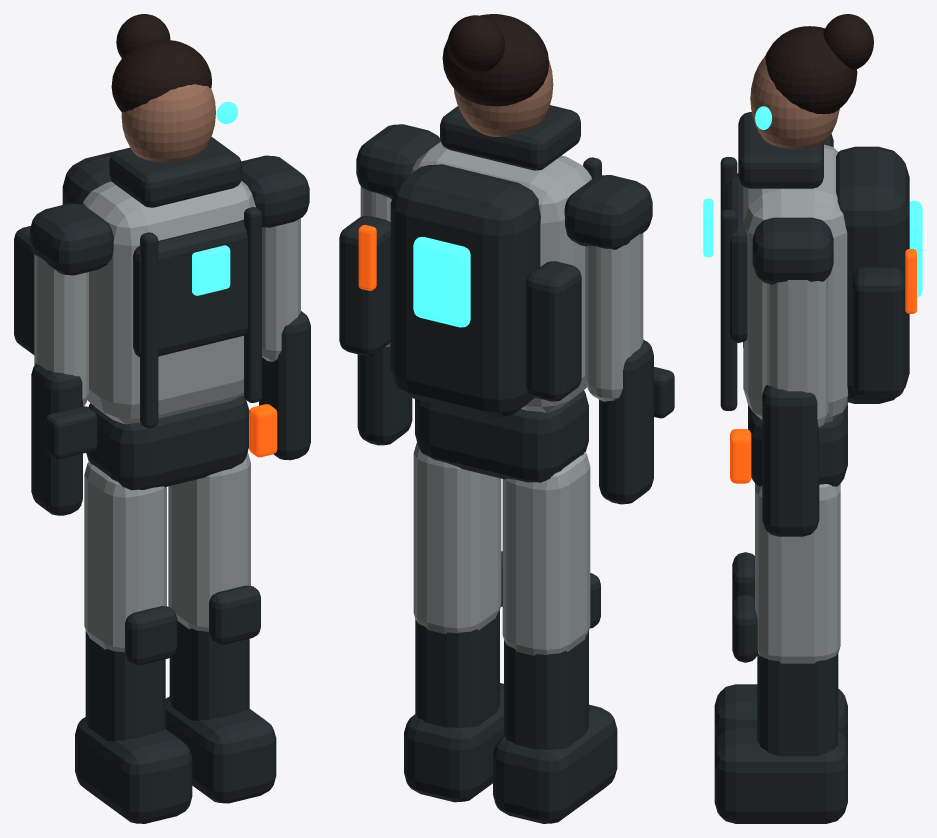
The model's file is Researcher_FormProxy_v0.31.fbx.
The picture shows the model from 3 angles, left to right: view 1: azimuth 30°, elevation 25°; view 2: azimuth 150°, elevation 25°; view 3: azimuth 270°, elevation 25°; orthographic projection. The views are drawn at different scales.
Visible parts, largest first — view 1: P03_Torso, P03_Thigh_-1, P03_Thigh_1, P03_Pelvis, P03_ChestArmor, P03_Boot_-1, P03_Boot_1, P03_Shin_-1, P03_Shin_1, P03_UpperArm_-1, P03_Detail_Collar, P03_Head (+16 smaller); view 2: P03_Backpack, P03_Thigh_-1, P03_Thigh_1, P03_Pelvis, P03_Boot_-1, P03_UpperArm_-1, P03_Shin_1, P03_Shin_-1, P03_Detail_PackSide_L, P03_Torso, P03_Forearm_-1, P03_Boot_1 (+12 smaller); view 3: P03_Thigh_1, P03_Torso, P03_Boot_1, P03_Backpack, P03_Forearm_1, P03_Shin_1, P03_UpperArm_1, P03_Detail_PackSide_R, P03_HairCap, P03_Shoulder_1, P03_Detail_Collar, P03_Head (+12 smaller).
Boxes of the visible parts, bbox=[...] form: P03_Torso: bbox=[82, 181, 255, 424]; P03_Thigh_-1: bbox=[84, 461, 166, 652]; P03_Thigh_1: bbox=[168, 452, 250, 631]; P03_Pelvis: bbox=[86, 395, 249, 490]; P03_ChestArmor: bbox=[133, 219, 247, 357]; P03_Boot_-1: bbox=[75, 717, 192, 823]; P03_Boot_1: bbox=[165, 696, 276, 803]; P03_Shin_-1: bbox=[85, 631, 165, 741]; P03_Shin_1: bbox=[169, 621, 249, 720]; P03_UpperArm_-1: bbox=[34, 254, 88, 406]; P03_Detail_Collar: bbox=[109, 136, 242, 207]; P03_Head: bbox=[121, 84, 215, 162]; P03_Backpack: bbox=[390, 164, 540, 417]; P03_Thigh_-1: bbox=[502, 452, 590, 655]; P03_Thigh_1: bbox=[413, 442, 501, 633]; P03_Pelvis: bbox=[415, 390, 588, 482]; P03_Boot_-1: bbox=[493, 704, 617, 823]; P03_UpperArm_-1: bbox=[585, 233, 643, 401]; P03_Shin_1: bbox=[415, 610, 499, 728]; P03_Shin_-1: bbox=[504, 632, 588, 749]; P03_Detail_PackSide_L: bbox=[525, 261, 581, 401]; P03_Torso: bbox=[411, 142, 591, 412]; P03_Forearm_-1: bbox=[599, 339, 653, 504]; P03_Boot_1: bbox=[404, 683, 503, 802]; P03_Thigh_1: bbox=[755, 483, 840, 663]; P03_Torso: bbox=[743, 144, 848, 422]; P03_Boot_1: bbox=[714, 726, 847, 823]; P03_Backpack: bbox=[836, 146, 909, 403]; P03_Forearm_1: bbox=[762, 385, 819, 536]; P03_Shin_1: bbox=[757, 653, 838, 756]; P03_UpperArm_1: bbox=[767, 277, 828, 428]; P03_Detail_PackSide_R: bbox=[852, 267, 904, 397]; P03_HairCap: bbox=[765, 26, 857, 114]; P03_Shoulder_1: bbox=[752, 217, 833, 284]; P03_Detail_Collar: bbox=[738, 112, 823, 188]; P03_Head: bbox=[750, 55, 839, 149].
Size of the model in its own units: 67.7 by 180 by 46.15.
